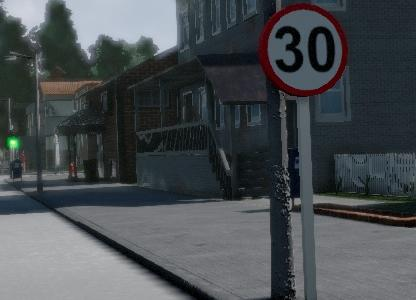Speed_30: (357, 0, 416, 82)
